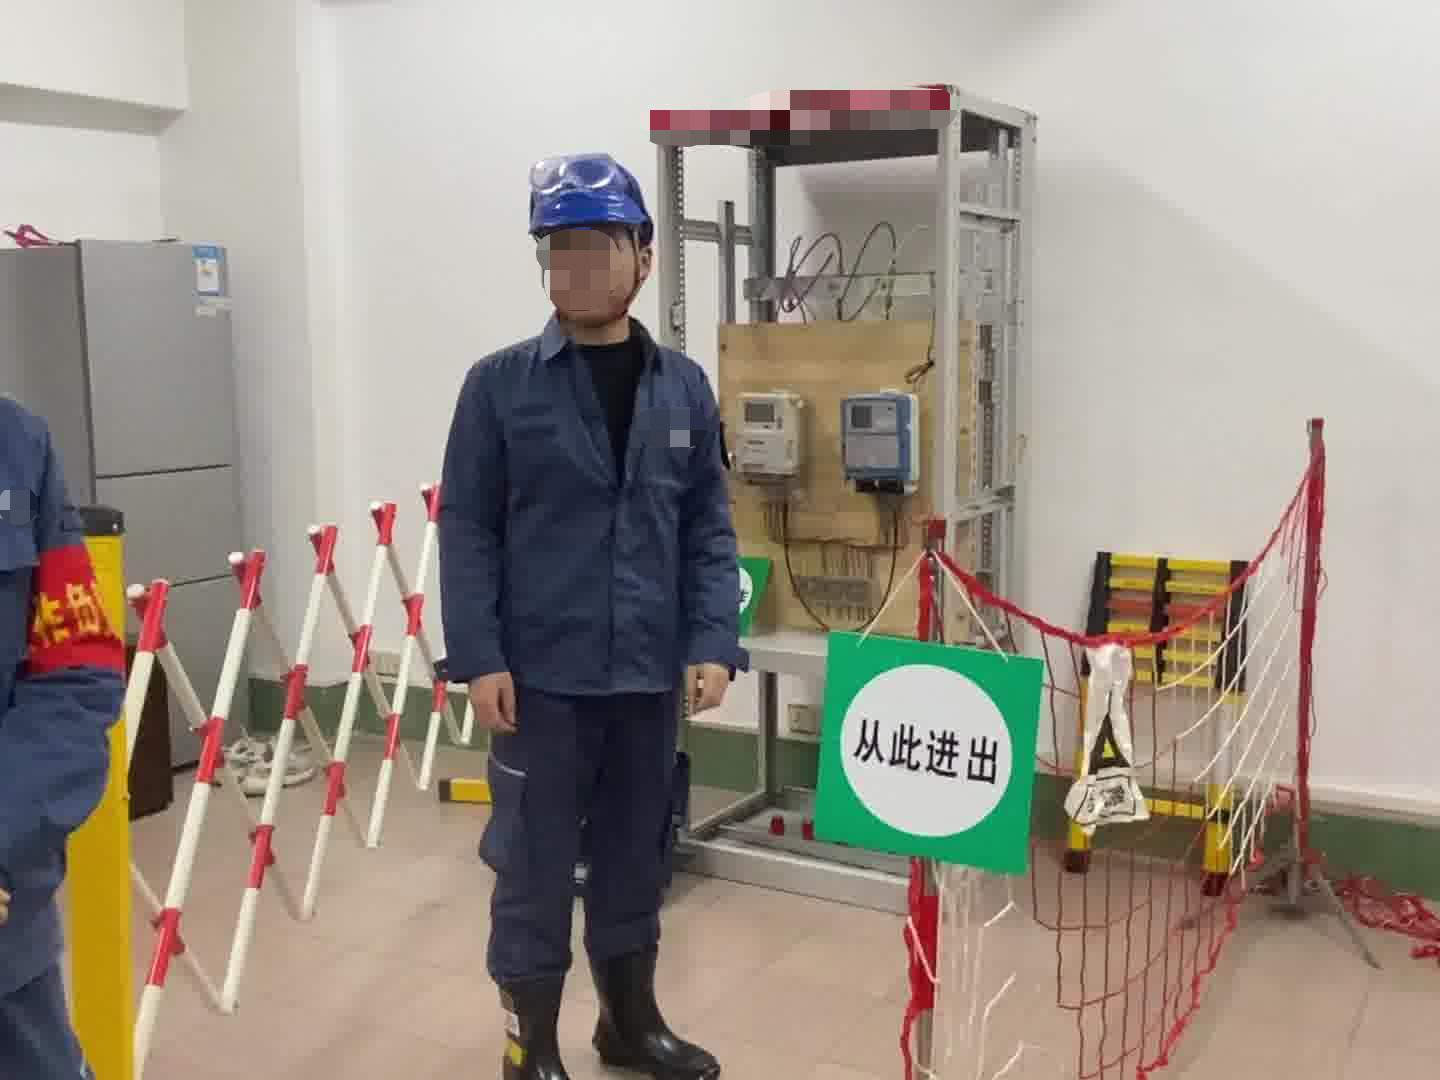halt: (523, 151, 666, 341)
